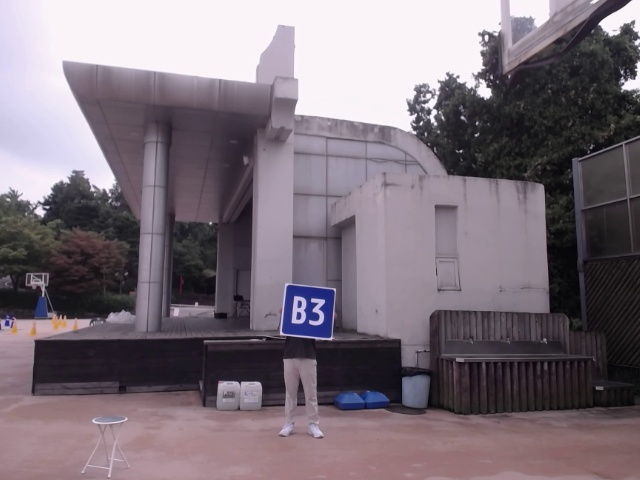delivery_b3: (282, 285, 336, 341)
